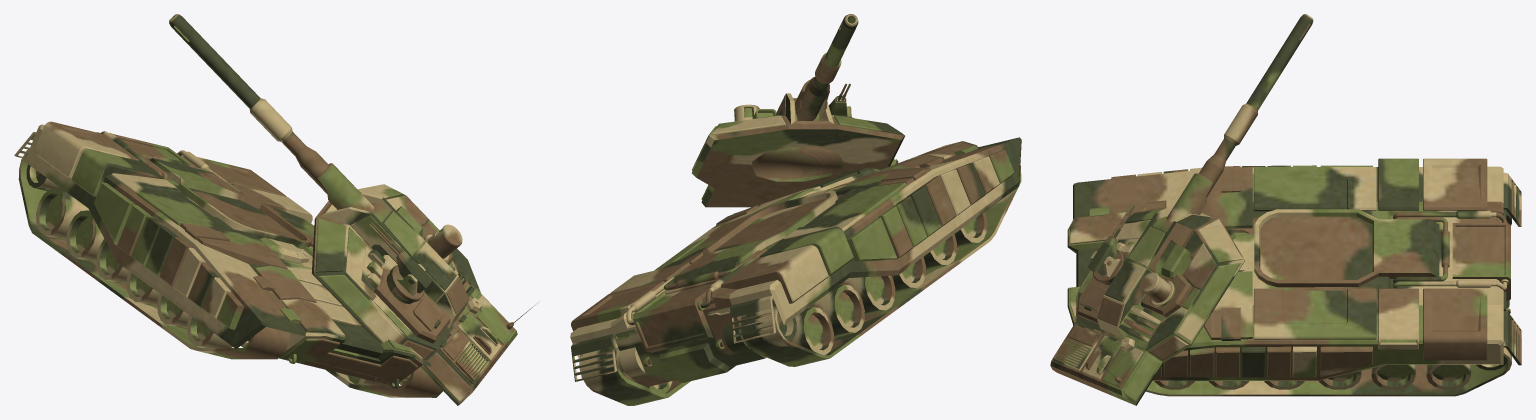
The model's file is LoseTank.fbx.
The picture shows the model from 3 angles, left to right: view 1: azimuth 30°, elevation 25°; view 2: azimuth 150°, elevation 25°; view 3: azimuth 270°, elevation 25°; orthographic projection. The views are drawn at different scales.
Parts seen in each view (by area): view 1: TankBottom, TankTop; view 2: TankBottom, TankTop; view 3: TankBottom, TankTop.
Boxes of the visible parts, left/top/right/bottom form: TankBottom: left=14, top=121, right=442, bottom=397; TankTop: left=169, top=14, right=538, bottom=405; TankBottom: left=570, top=137, right=1021, bottom=405; TankTop: left=692, top=14, right=904, bottom=207; TankBottom: left=1067, top=158, right=1521, bottom=396; TankTop: left=1050, top=14, right=1313, bottom=405.
Bounding box in the file's own units: 1.19 × 1.31 × 1.73.
2 materials, 2 textured.
